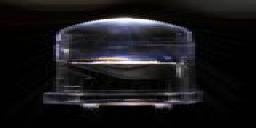LED: (42, 16, 205, 110)
